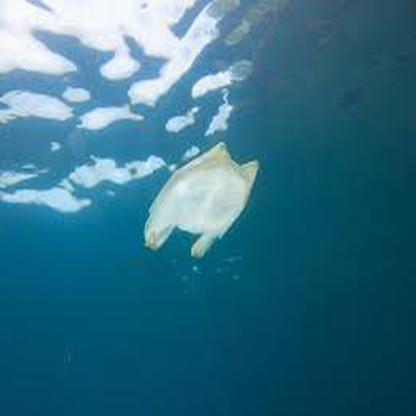plastic bag: (136, 141, 260, 257)
